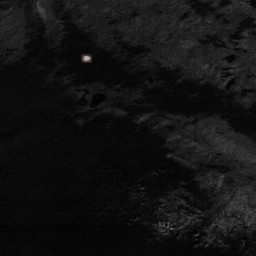Target: (82, 56, 92, 62)
